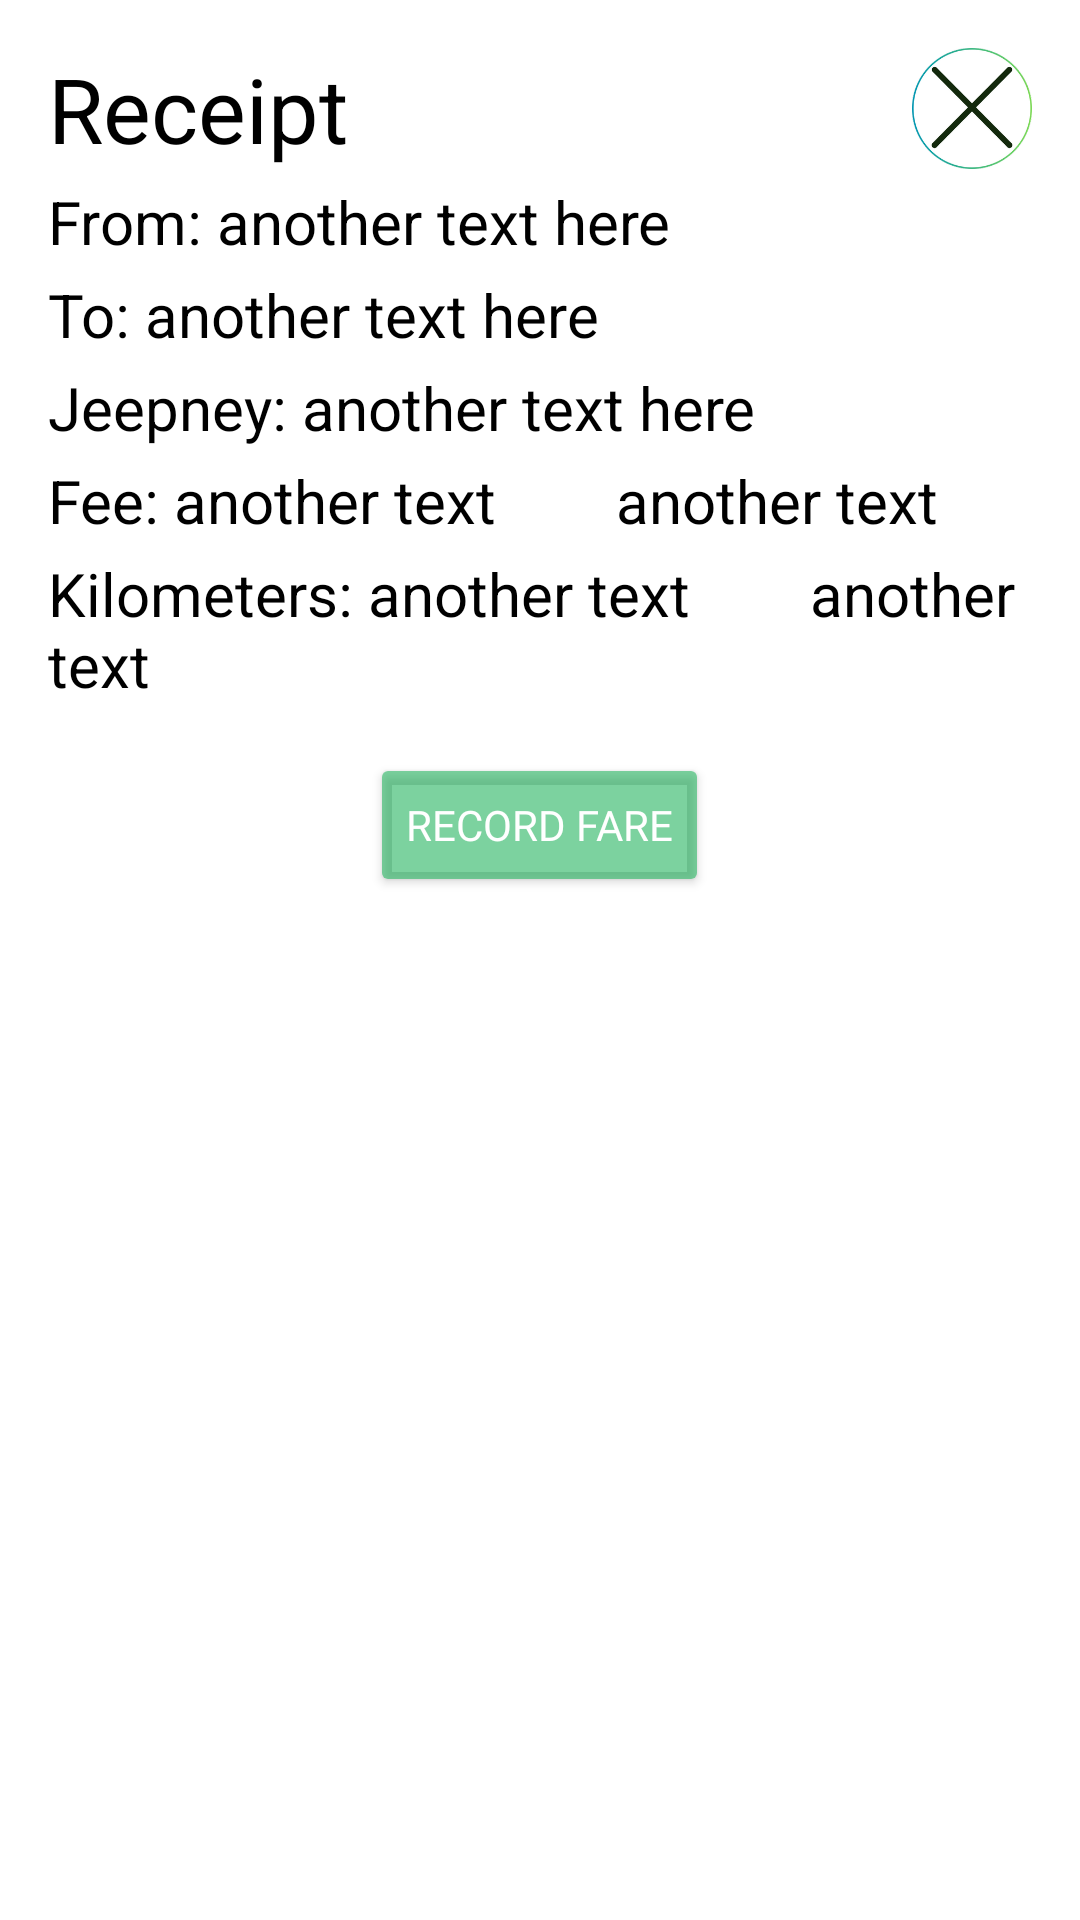

Locate icon controls on the screen. Image size 1080 x 1920, boxes as (x1, y1, x2, y2).
exit: (912, 48, 1032, 169)
